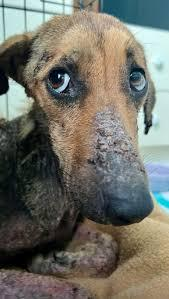infection: (0, 91, 149, 242)
